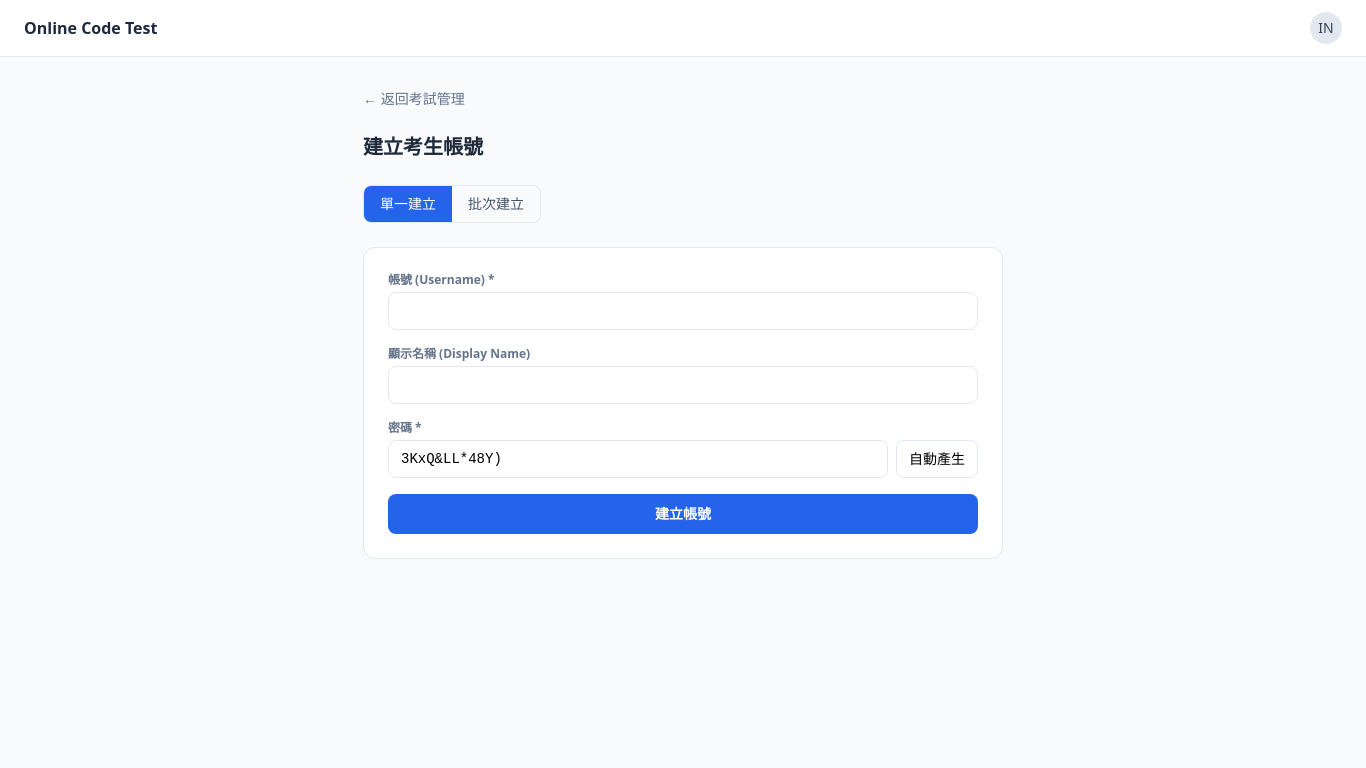
Test: CandidateCreatePage() › shows error when createUser rejects
In the field labelled "帳號": point(683, 311) [388,292,978,330], type "taken"
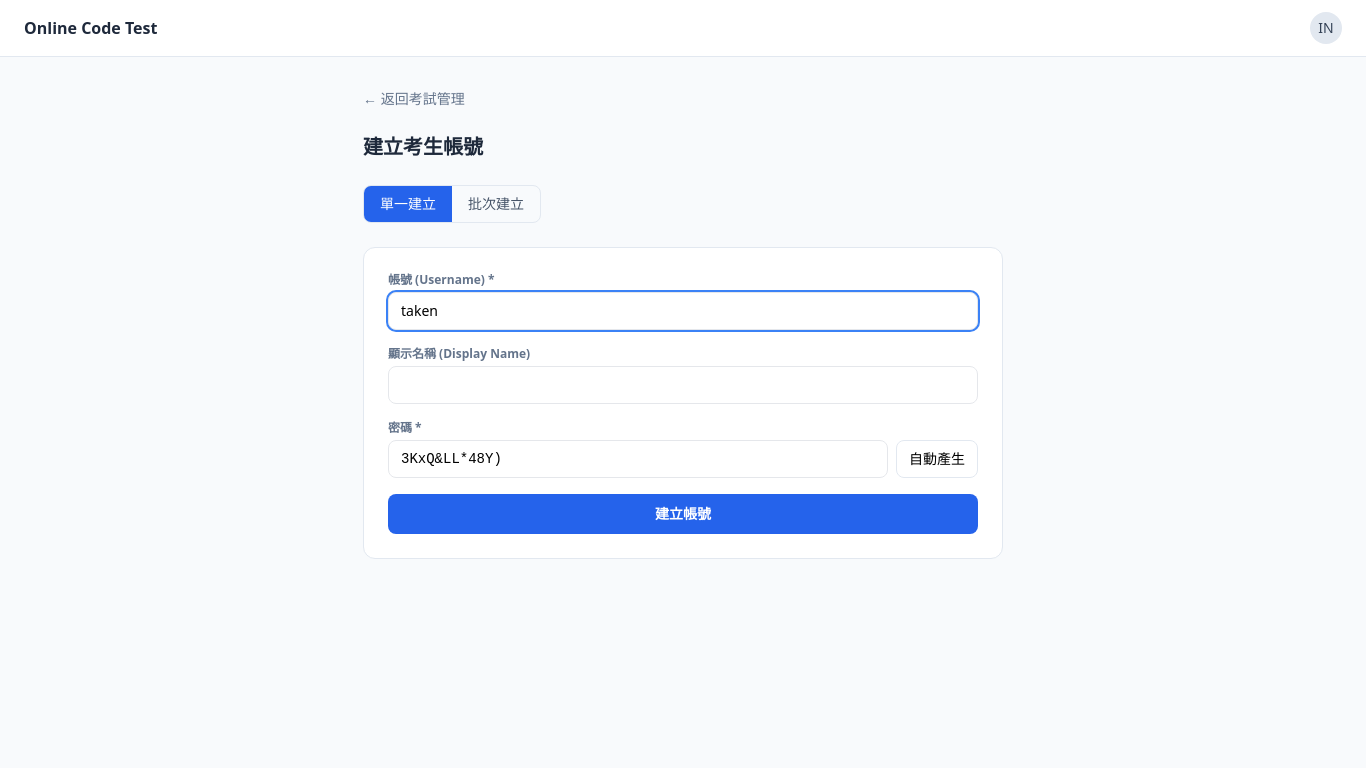
Click the button "建立帳號": point(683, 514) [388,494,978,534]
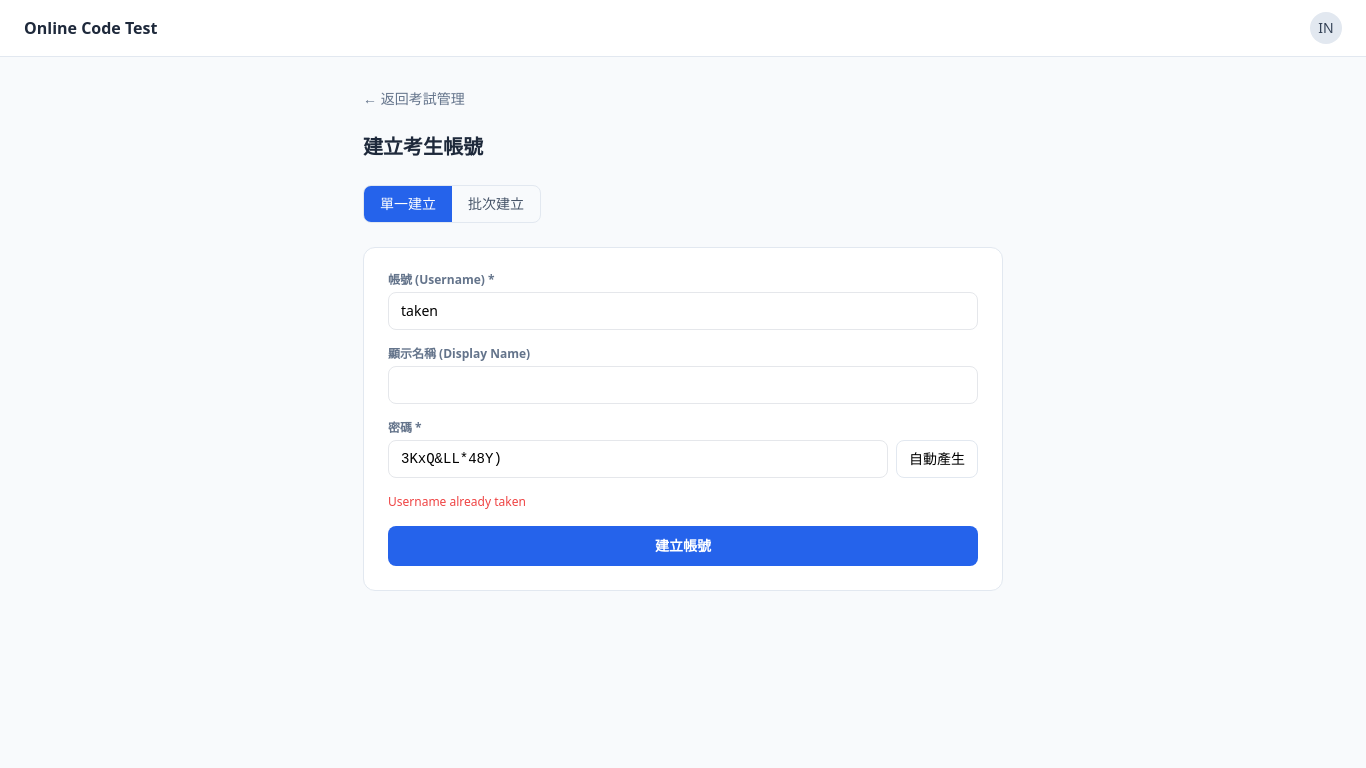
Result: the text "Username already taken" is shown at [388,493,526,510]
